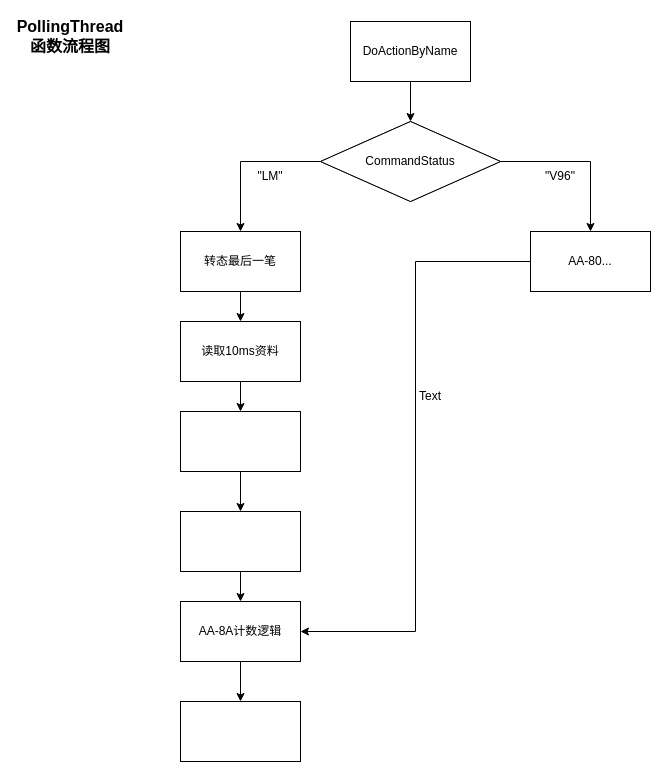
Image size: 668x779. Some labels were removed from this diagram. The shapes that lost their labels are listed below. From the top down, each one's centre as x and y in pixels, then its label:
At (x=240, y=441): "读取100ms资料".
At (x=240, y=541): "AA-81: 读取程式执行预存资料".
At (x=240, y=731): "300ms延时逻辑".
